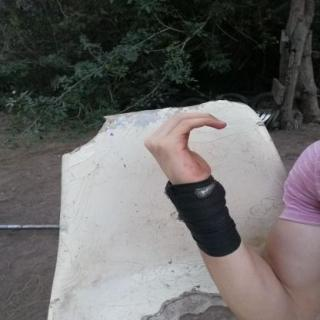HAA: (135, 106, 233, 192)
